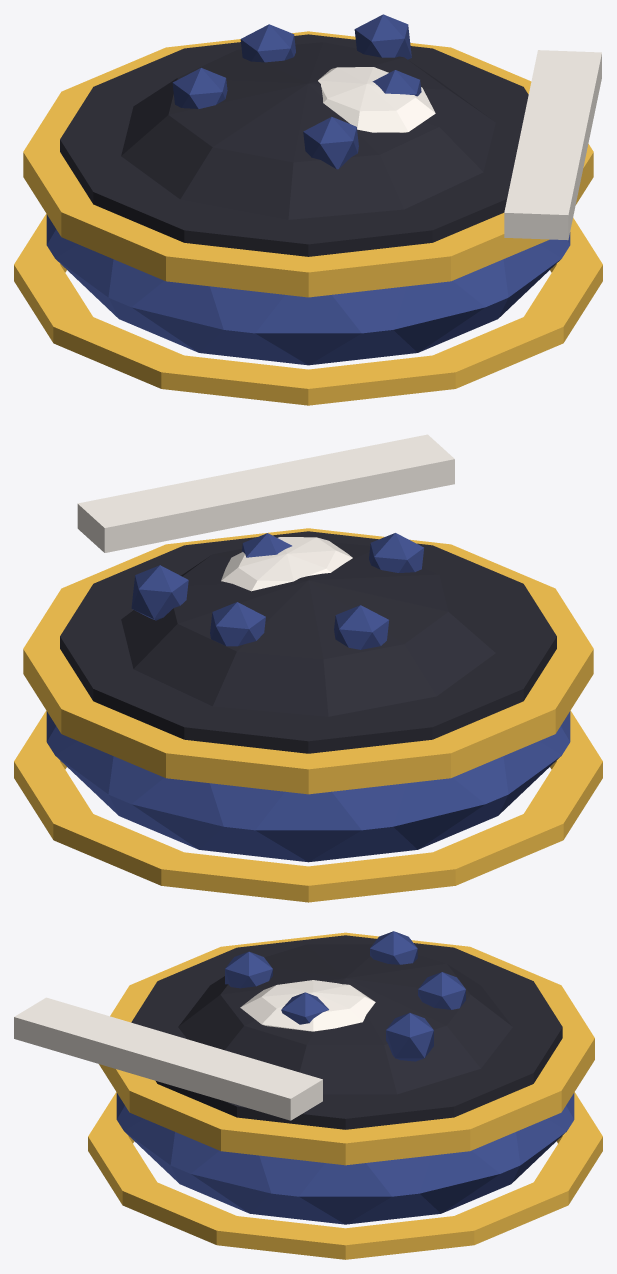
File: CatCafe_Item_Caviar.glb
3 renders of one model, top to bottom at view 1: azimuth 30°, elevation 25°; view 2: azimuth 150°, elevation 25°; view 3: azimuth 270°, elevation 25°, orthographic. The views are drawn at different scales.
Visible parts, largest first — view 1: CatCafe_Item_Caviar; view 2: CatCafe_Item_Caviar; view 3: CatCafe_Item_Caviar.
Part boxes in pixels (x1,y1,x2,y2): CatCafe_Item_Caviar: (14,14,602,405); CatCafe_Item_Caviar: (14,434,602,902); CatCafe_Item_Caviar: (14,931,602,1259).
Size of the model in its own units: 0.6491 by 0.255 by 0.7321.
1 material, 1 textured.
